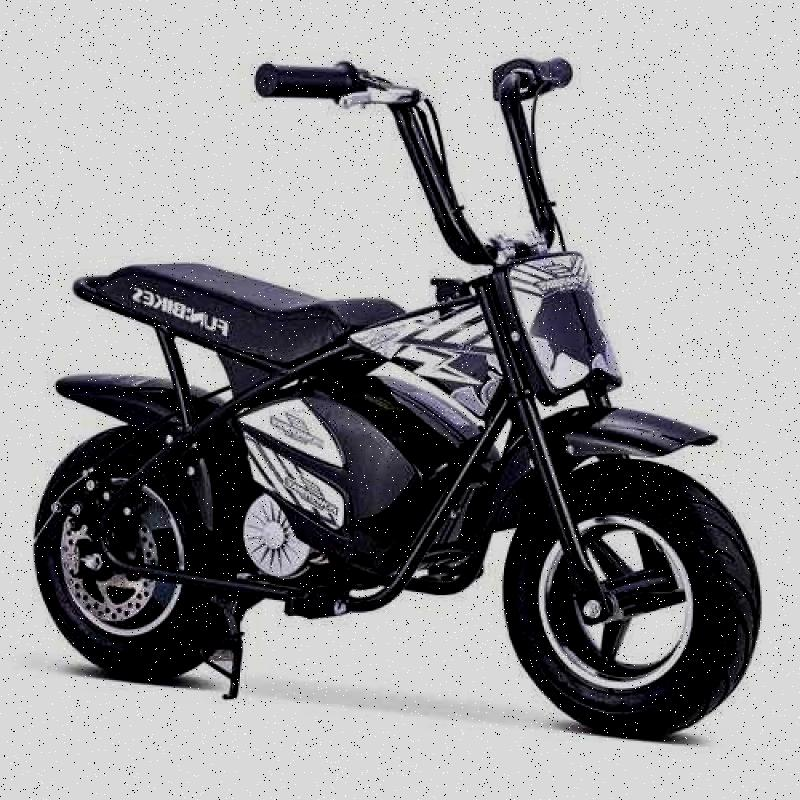bike: (34, 12, 732, 701)
